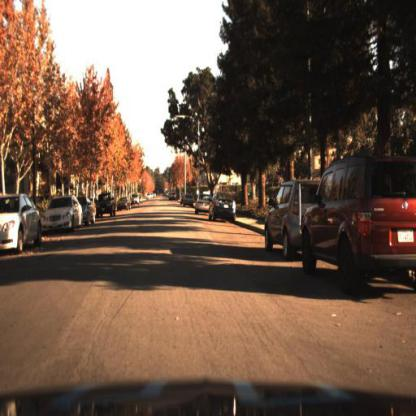car: (301, 156, 416, 300), (263, 177, 328, 259), (259, 174, 307, 265), (1, 194, 44, 256), (42, 190, 85, 241), (42, 196, 86, 232), (209, 187, 240, 230), (208, 189, 238, 222), (94, 190, 118, 221), (95, 191, 118, 220), (82, 191, 99, 229), (196, 193, 214, 217), (117, 194, 134, 216)
